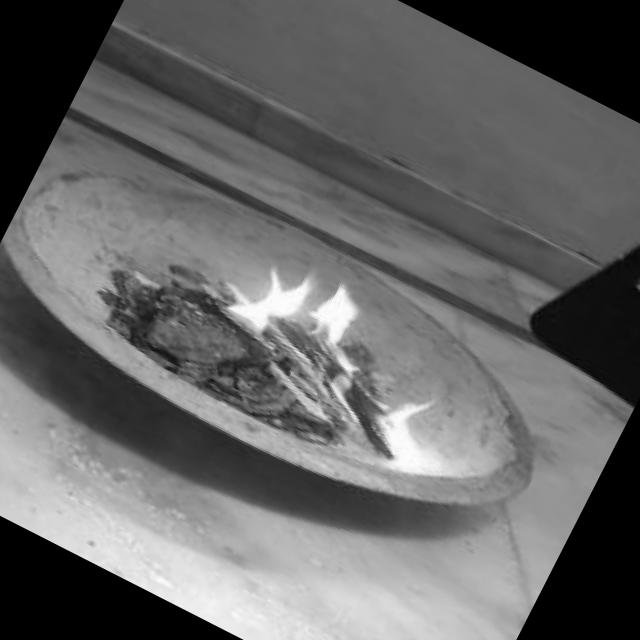fire: (197, 249, 471, 473)
